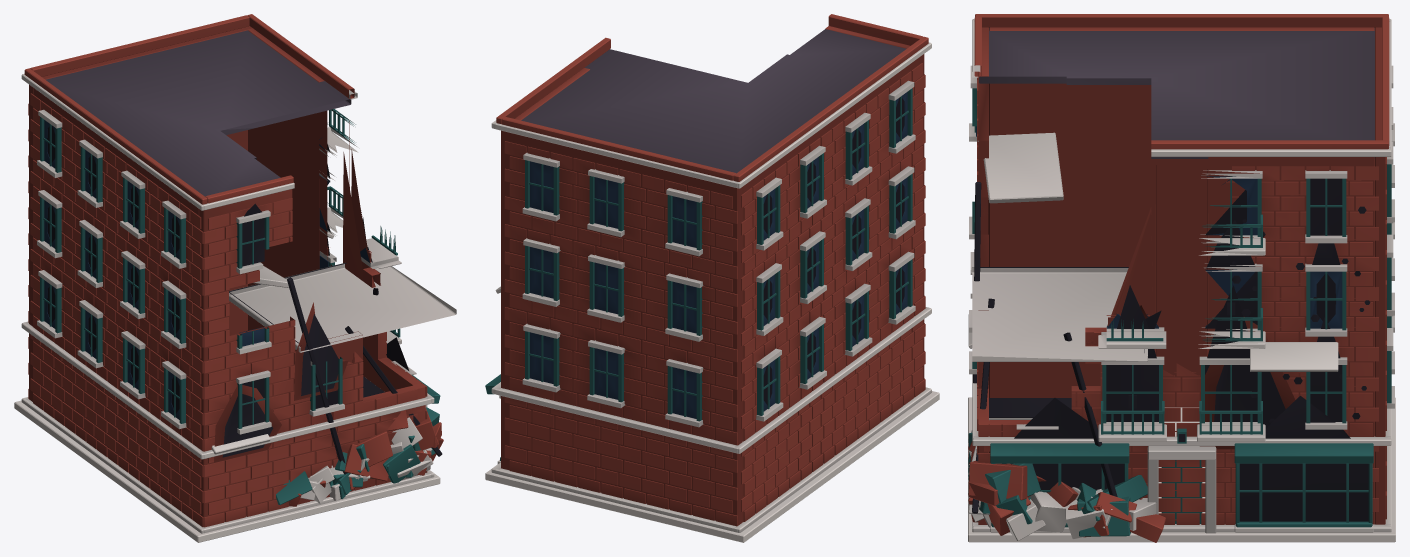
File: bld.apartment-block-a.w6.glb
3 renders of one model, left to right at view 1: azimuth 30°, elevation 25°; view 2: azimuth 150°, elevation 25°; view 3: azimuth 270°, elevation 25°, orthographic. The views are drawn at different scales.
Parts seen in each view (by area): view 1: body, roof; view 2: body, roof; view 3: body, roof, door_front.
Part boxes in pixels (left/top/right/bottom): body: left=14, top=14, right=456, bottom=542; roof: left=45, top=30, right=351, bottom=196; body: left=485, top=14, right=939, bottom=542; roof: left=521, top=29, right=906, bottom=173; body: left=968, top=14, right=1395, bottom=542; roof: left=979, top=28, right=1374, bottom=158; door_front: left=1161, top=460, right=1202, bottom=523.
Size of the model in its own units: 10.3 by 12.85 by 12.6.
